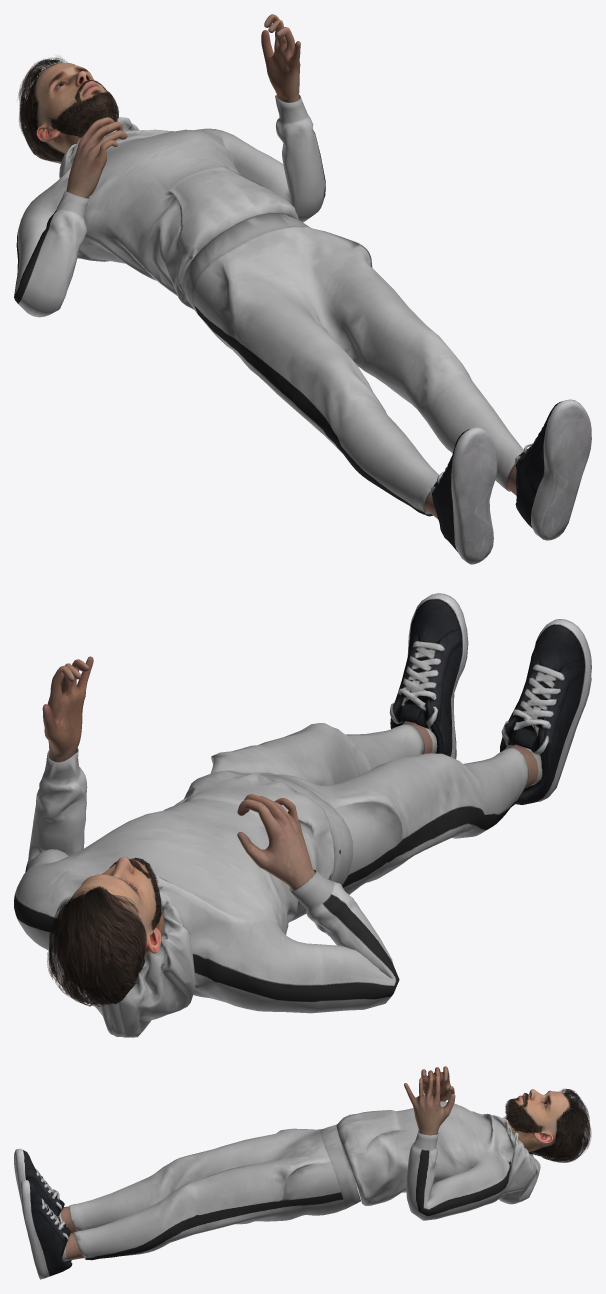
Rendered from sudadera-cuerpo-v1.glb.
The picture shows the model from 3 angles, top to bottom: view 1: azimuth 30°, elevation 25°; view 2: azimuth 150°, elevation 25°; view 3: azimuth 270°, elevation 25°; orthographic projection. The views are drawn at different scales.
Visible parts, largest first — view 1: Ch08_Pants.001, Ch08_Hoodie.001, Ch08_Sneakers.001, Ch08_Body.001, Ch08_Beard.001, Ch08_Hair.001; view 2: Ch08_Hoodie.001, Ch08_Pants.001, Ch08_Sneakers.001, Ch08_Body.001, Ch08_Hair.001, Ch08_Beard.001; view 3: Ch08_Pants.001, Ch08_Hoodie.001, Ch08_Body.001, Ch08_Sneakers.001, Ch08_Hair.001, Ch08_Beard.001.
Part boxes in pixels (bbox=[...]): Ch08_Pants.001: bbox=[183, 213, 523, 516]; Ch08_Hoodie.001: bbox=[14, 94, 325, 317]; Ch08_Sneakers.001: bbox=[430, 399, 591, 564]; Ch08_Body.001: bbox=[27, 14, 516, 519]; Ch08_Beard.001: bbox=[47, 80, 118, 137]; Ch08_Hair.001: bbox=[18, 56, 66, 163]; Ch08_Hoodie.001: bbox=[14, 748, 399, 1037]; Ch08_Pants.001: bbox=[210, 723, 528, 913]; Ch08_Sneakers.001: bbox=[389, 593, 591, 804]; Ch08_Body.001: bbox=[42, 656, 542, 992]; Ch08_Hair.001: bbox=[47, 886, 146, 1006]; Ch08_Beard.001: bbox=[109, 857, 161, 931]; Ch08_Pants.001: bbox=[69, 1124, 360, 1260]; Ch08_Hoodie.001: bbox=[337, 1101, 540, 1220]; Ch08_Body.001: bbox=[59, 1066, 583, 1261]; Ch08_Sneakers.001: bbox=[14, 1148, 72, 1279]; Ch08_Hair.001: bbox=[528, 1089, 591, 1162]; Ch08_Beard.001: bbox=[505, 1093, 544, 1133].
Bounding box in the file's own units: 4.77 × 4.54 × 11.45.
3 materials, 3 textured.
